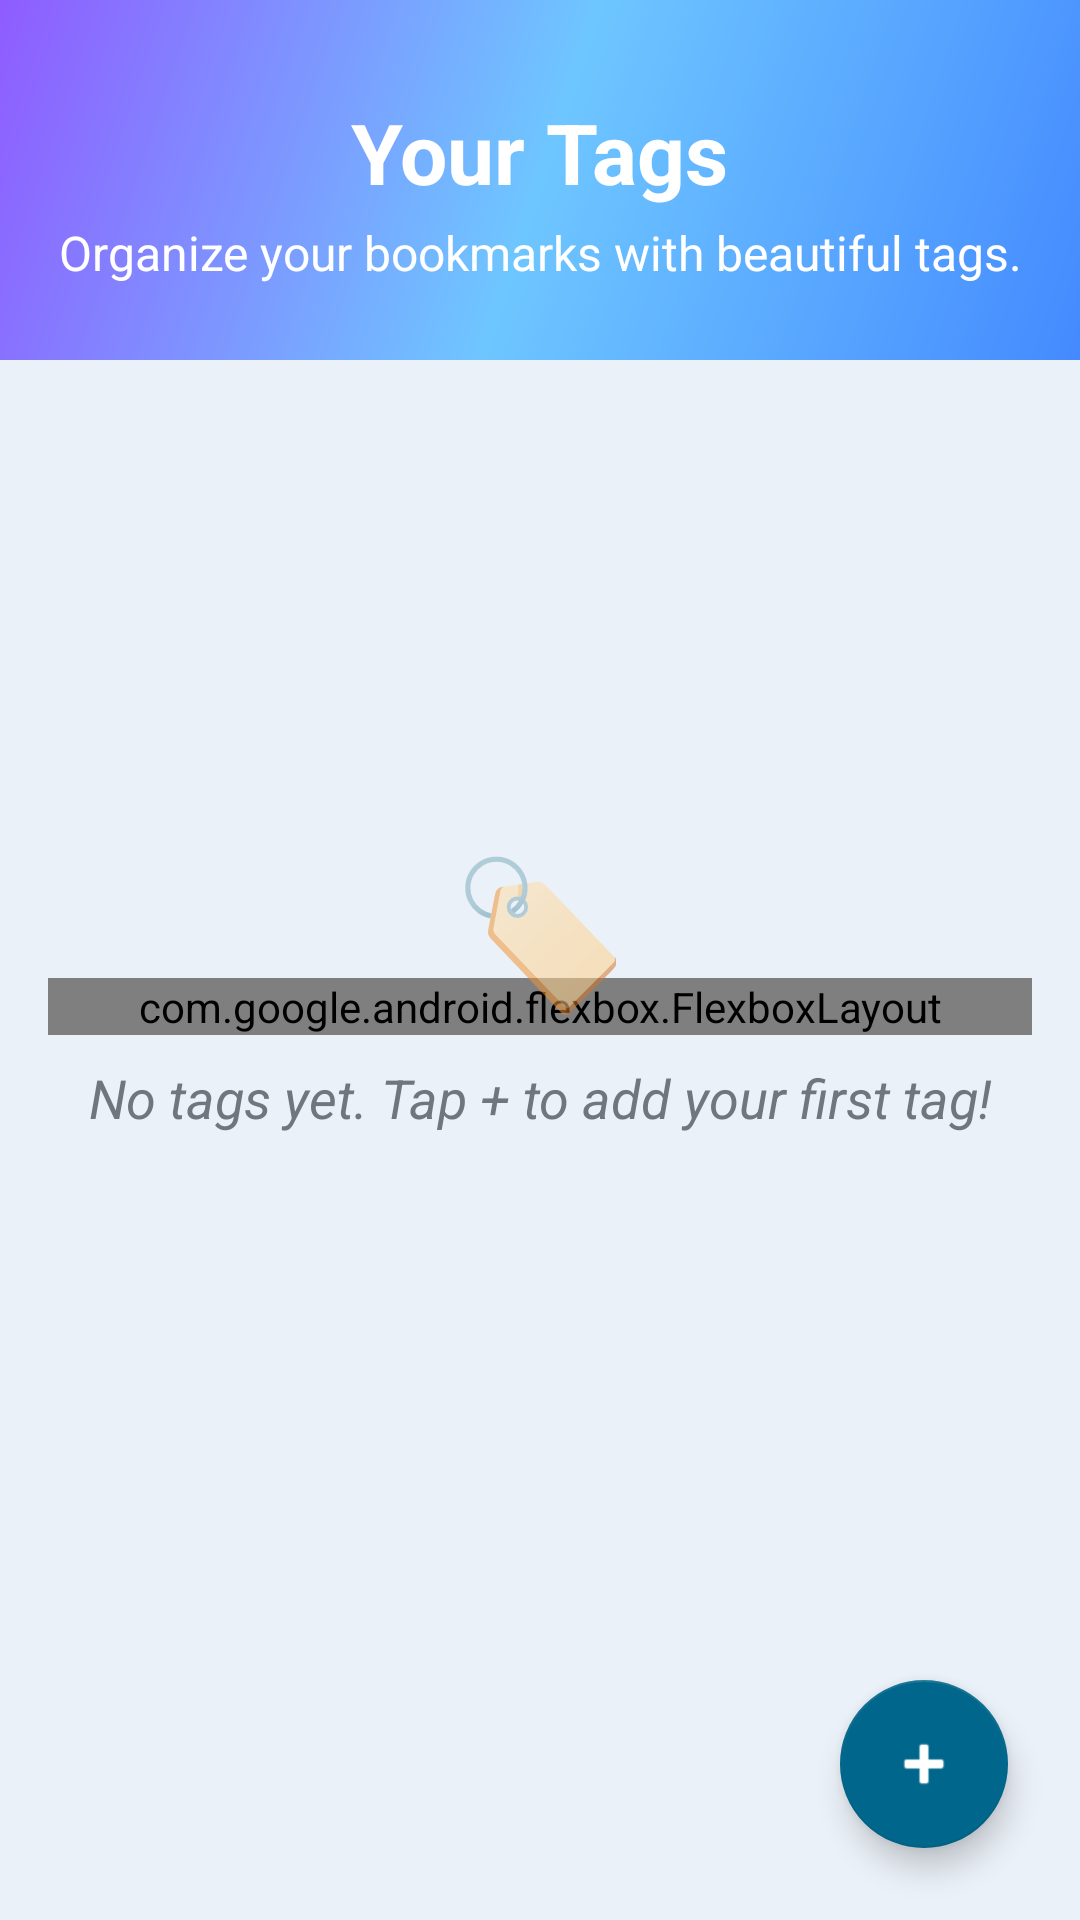

Icons on this 1080w x 1920h Android screen, each with the point to tap as (x,y):
Add new tag: (924,1764)
